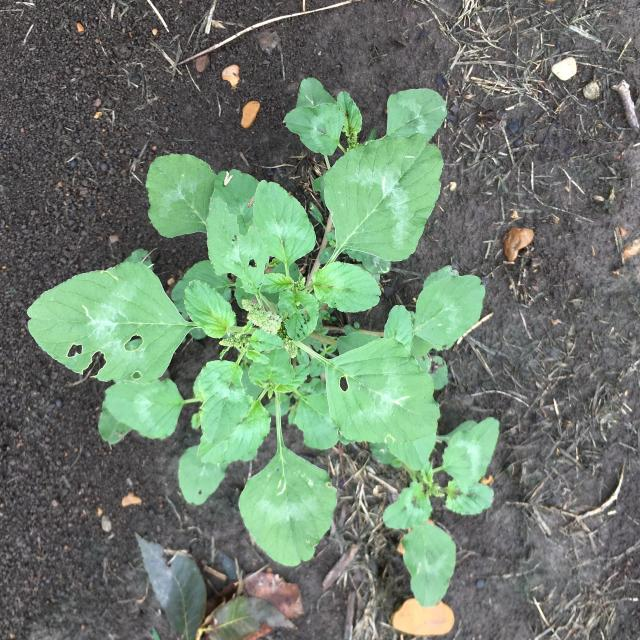PalmerAmaranth: (27, 78, 500, 610)
